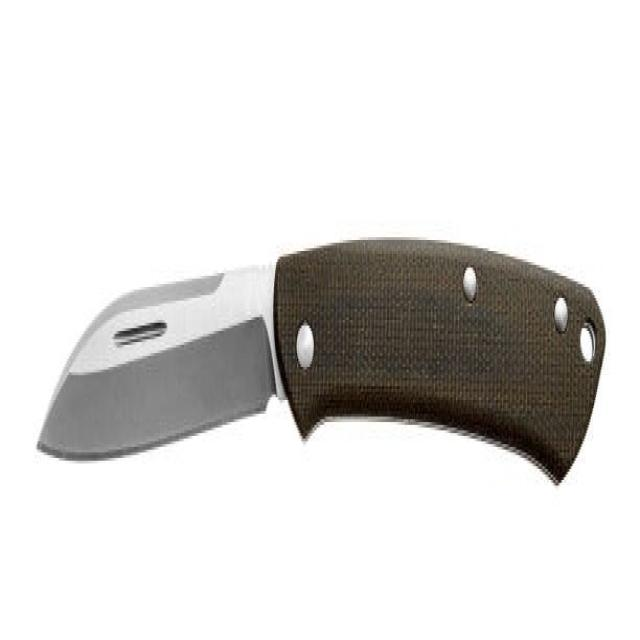knife: (30, 235, 611, 529)
